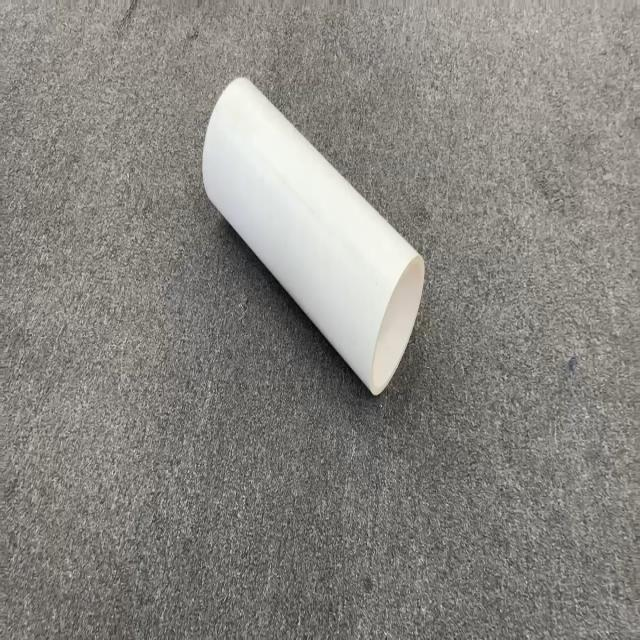coral: (201, 74, 425, 397)
